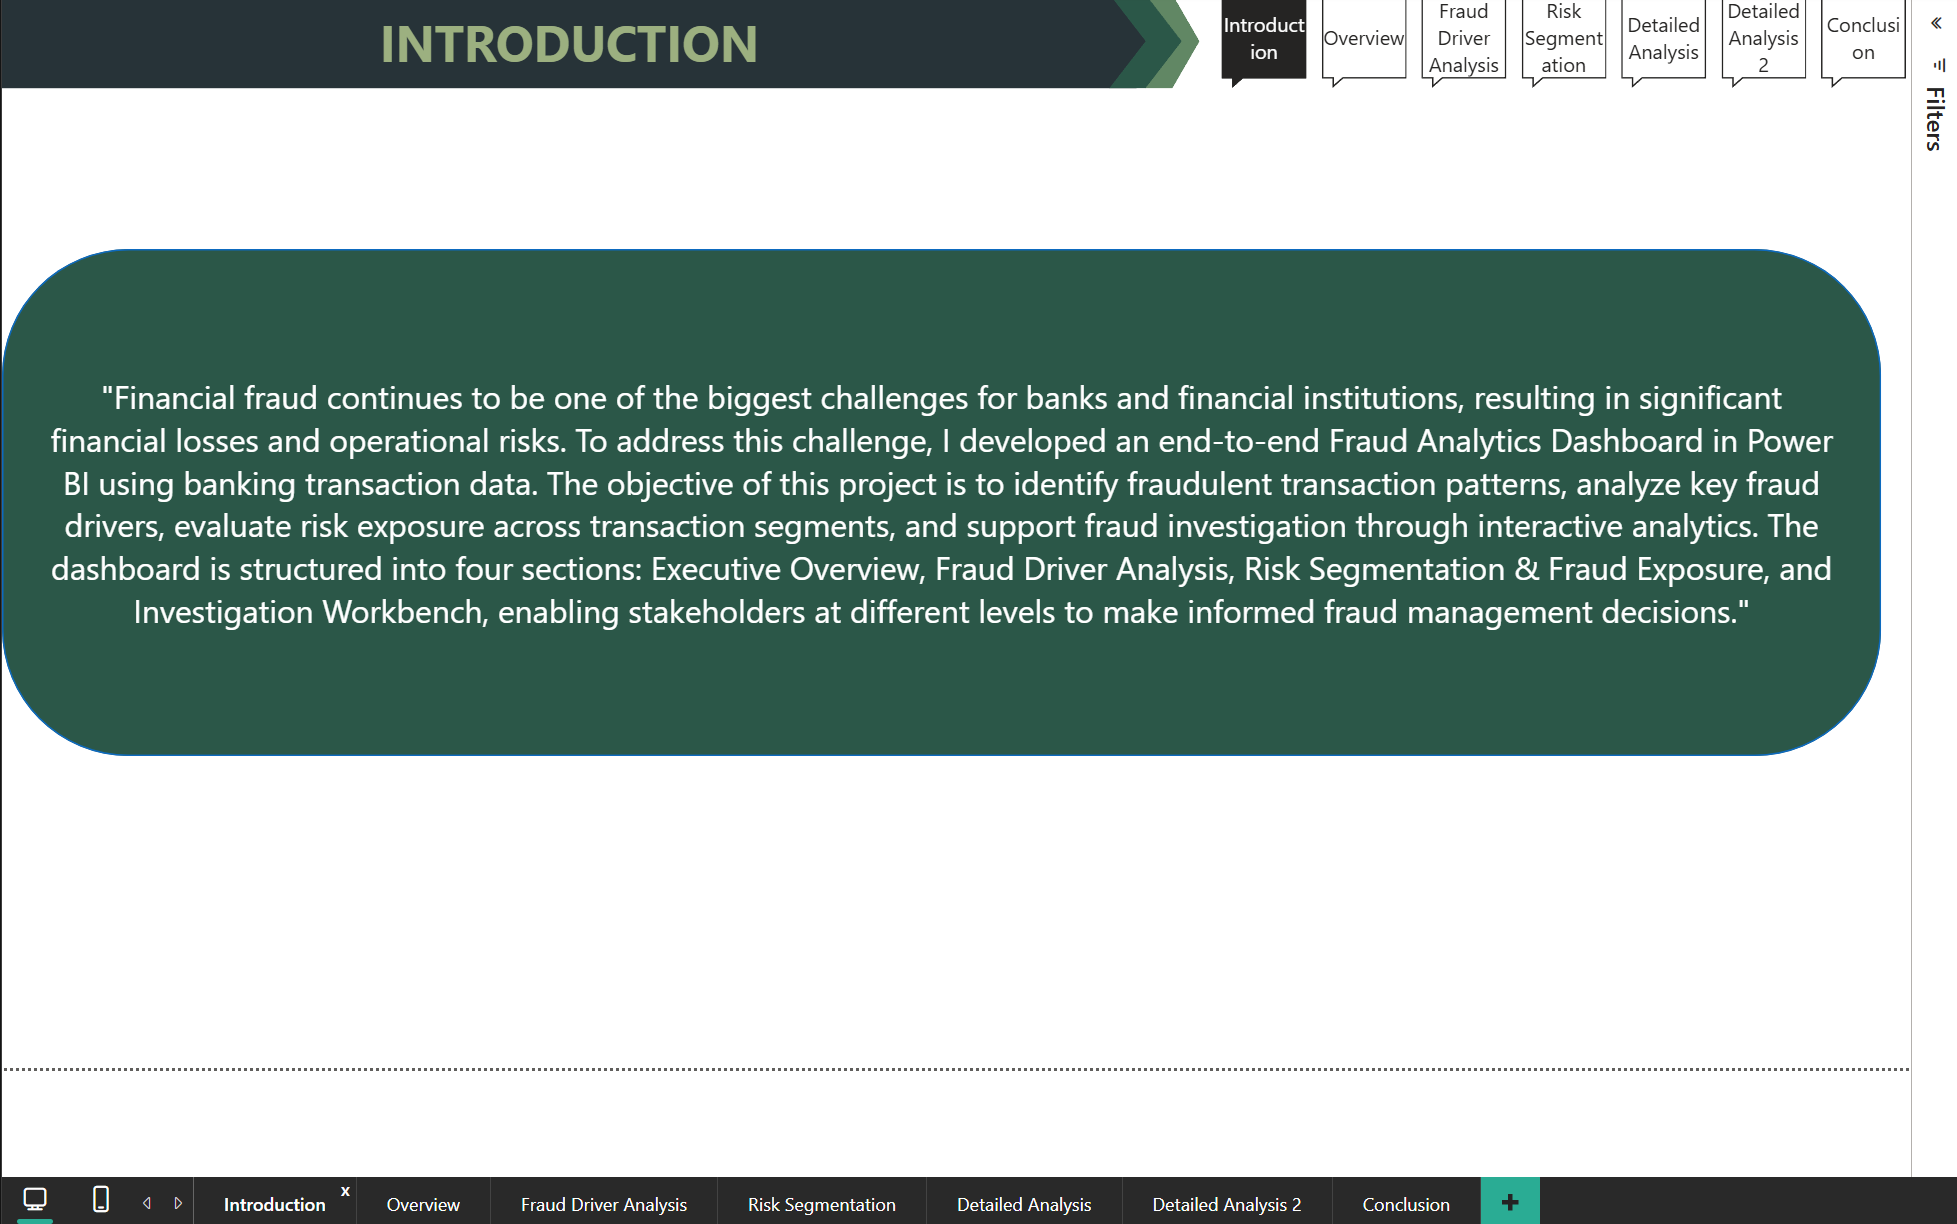

Layout of this report page (visuals, bound fields, positions):
{"tool":"powerbi","page":{"name":"Introduction","canvas":[1280,720],"ordinal":0},"visuals":[{"type":"shape","box":[0,171.1,1260,340],"z":0},{"type":"pageNavigator","box":[817.8,0,462.2,63.3],"z":1000},{"type":"group","id":"g1","title":"Group 1","box":[0,0,803.3,63.3],"z":2000},{"type":"shape","box":[0,0,792.5,63.3],"z":9000,"group":"g1"},{"type":"shape","box":[766.7,0,36.7,63.3],"z":10000,"group":"g1"},{"type":"shape","box":[742.2,0,48.9,63.3],"z":11000,"group":"g1"}]}

Visuals, with their boxes on the page's 1280x720 design canvas (x1, y1, x2, y2). These are canvas units, not pixel positions in the 1957x1224 screenshot, which may show the page scaled, cropped or inside an application window:
shape: 0, 171, 1260, 511
pageNavigator: 818, 0, 1280, 63
"Group 1" group: 0, 0, 803, 63
shape: 0, 0, 792, 63
shape: 767, 0, 803, 63
shape: 742, 0, 791, 63
